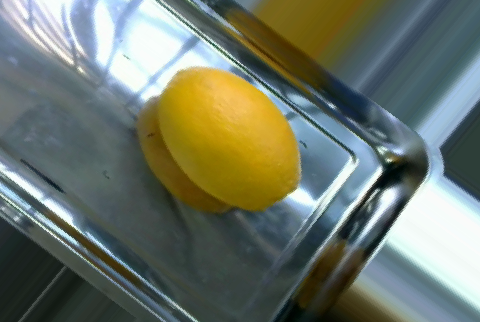Orange: (157, 65, 303, 210)
